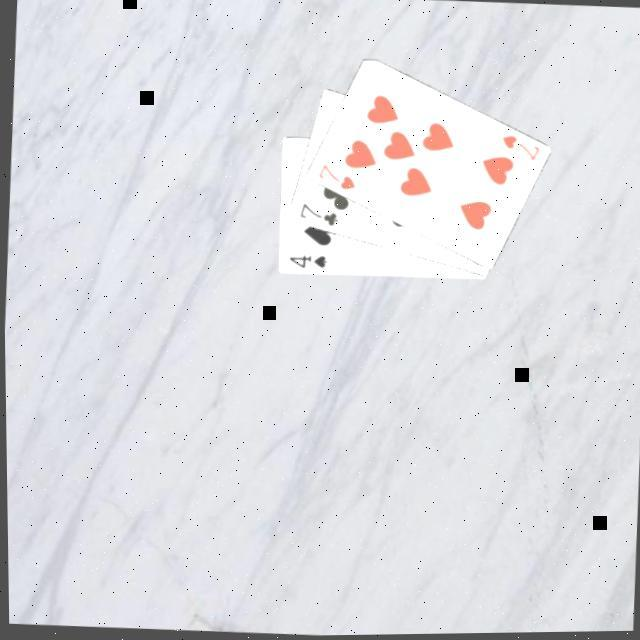4S: (282, 249, 328, 272)
7C: (294, 198, 338, 229)
7H: (495, 131, 541, 164), (311, 160, 357, 192)
